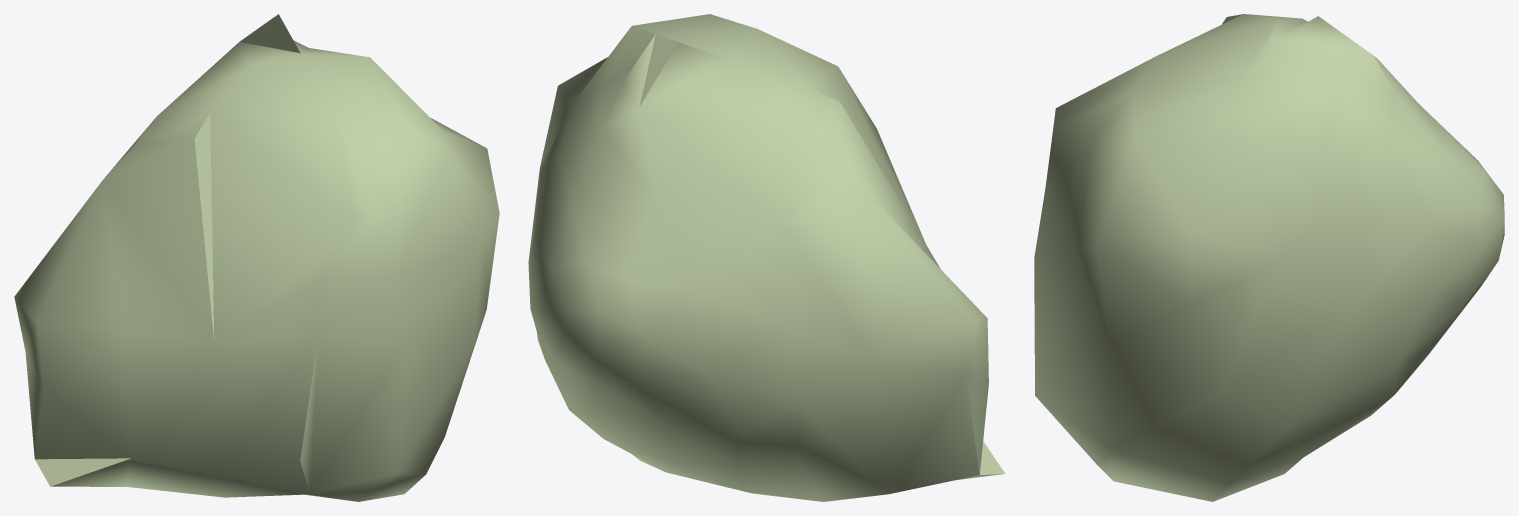
File: spl-3002.glb
3 views of the same model, side by side, from view 1: azimuth 30°, elevation 25°; view 2: azimuth 150°, elevation 25°; view 3: azimuth 270°, elevation 25° (orthographic). The views are drawn at different scales.
Parts seen in each view (by area): view 1: spl-3002; view 2: spl-3002; view 3: spl-3002.
Boxes of the visible parts, <box> form: spl-3002: <box>14,14,499,501</box>; spl-3002: <box>528,14,1005,501</box>; spl-3002: <box>1034,14,1504,501</box>.
Bounding box in the file's own units: 5.02 × 4.75 × 4.44.
